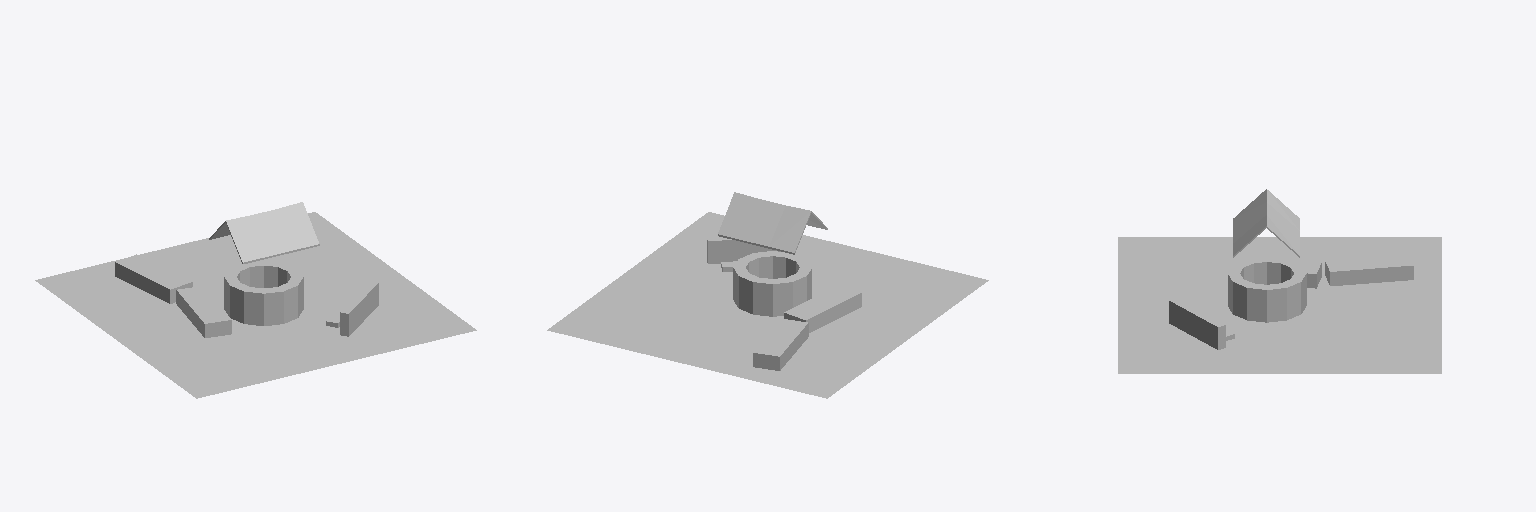
File: WellStocksColl.obj
The picture shows the model from 3 angles: view 1: azimuth 30°, elevation 25°; view 2: azimuth 150°, elevation 25°; view 3: azimuth 270°, elevation 25°; orthographic projection.
Parts seen in each view (by area): view 1: 11_-_Default; view 2: 11_-_Default; view 3: 11_-_Default.
Boxes of the visible parts, box(x1,y1,x2,y2) form: 11_-_Default: box(35, 202, 476, 398); 11_-_Default: box(547, 192, 988, 398); 11_-_Default: box(1118, 189, 1441, 373).
Size of the model in its own units: 76 by 25.52 by 76.